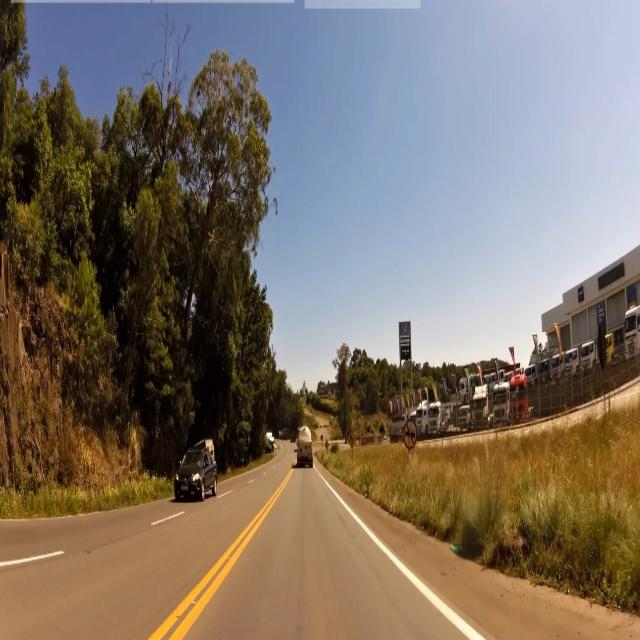R-7: (403, 420, 416, 450)
